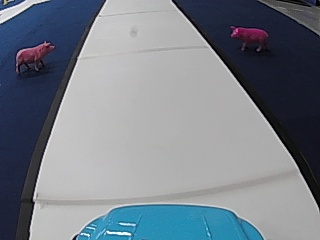pig: (13, 38, 54, 73), (227, 22, 269, 52)
